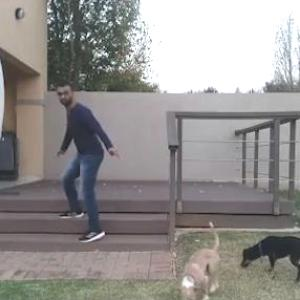land: (49, 79, 122, 240)
